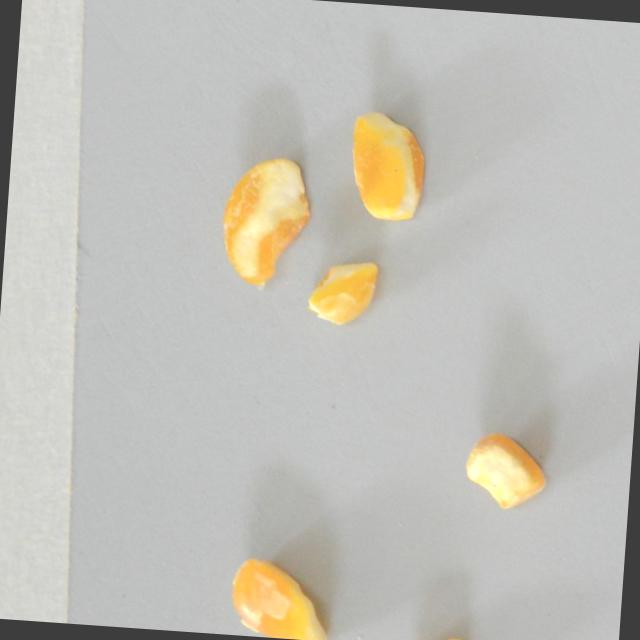pelicula: (214, 149, 315, 288), (227, 553, 334, 640), (346, 108, 427, 221), (461, 430, 548, 510), (305, 255, 380, 327), (403, 632, 470, 640)
